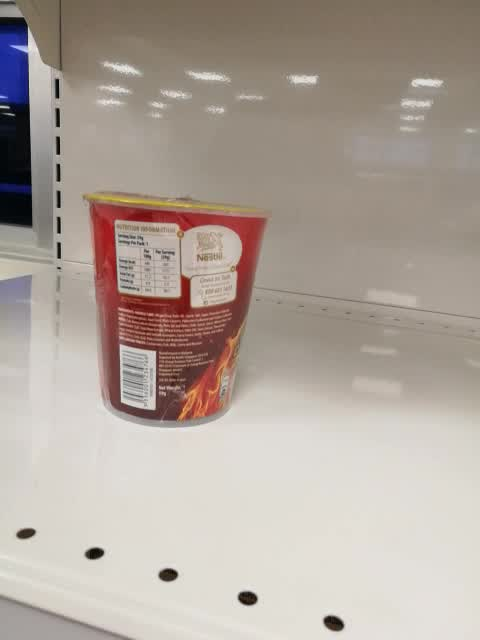maggi: (79, 190, 273, 429)
